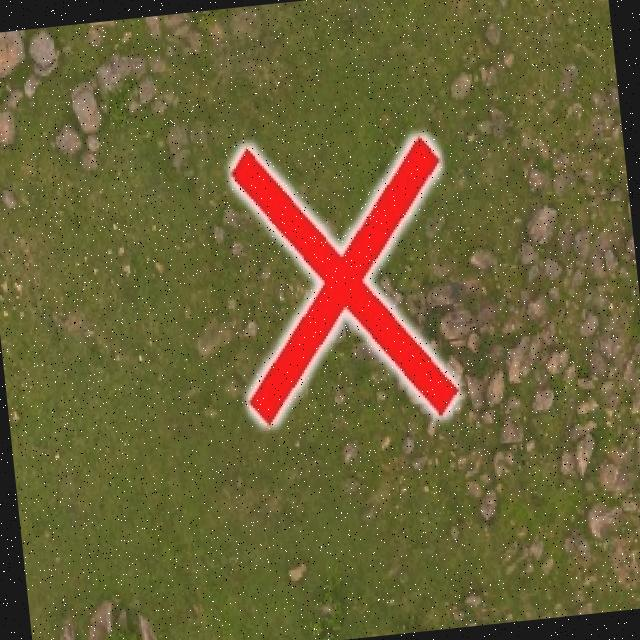x_marker: (222, 127, 463, 433)
